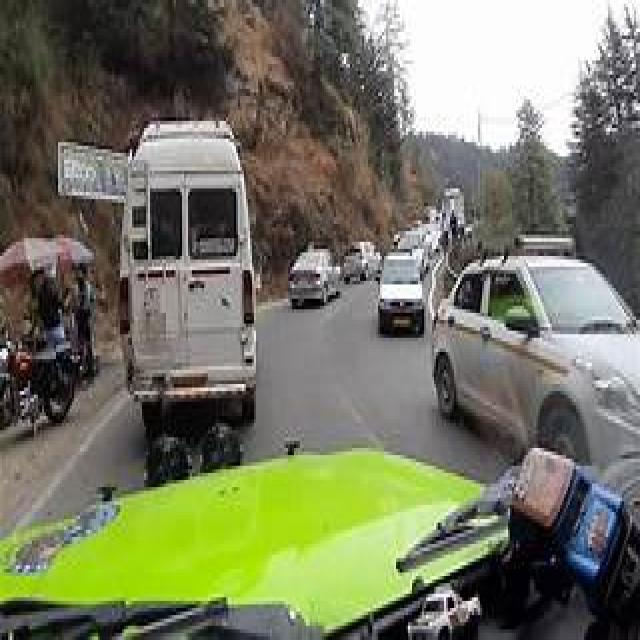Car: (0, 451, 640, 640), (431, 256, 640, 463), (379, 253, 428, 334), (289, 251, 339, 306)
Traveller: (120, 122, 254, 432)
Two Wheeler: (0, 340, 80, 426)
